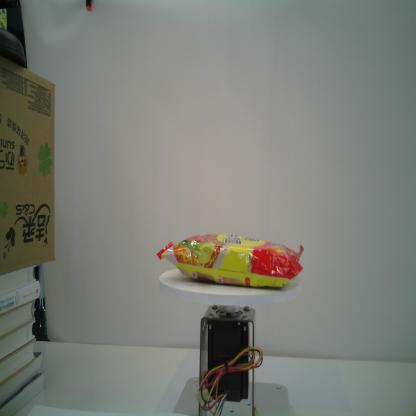Instant Noodles: (155, 232, 305, 291)
